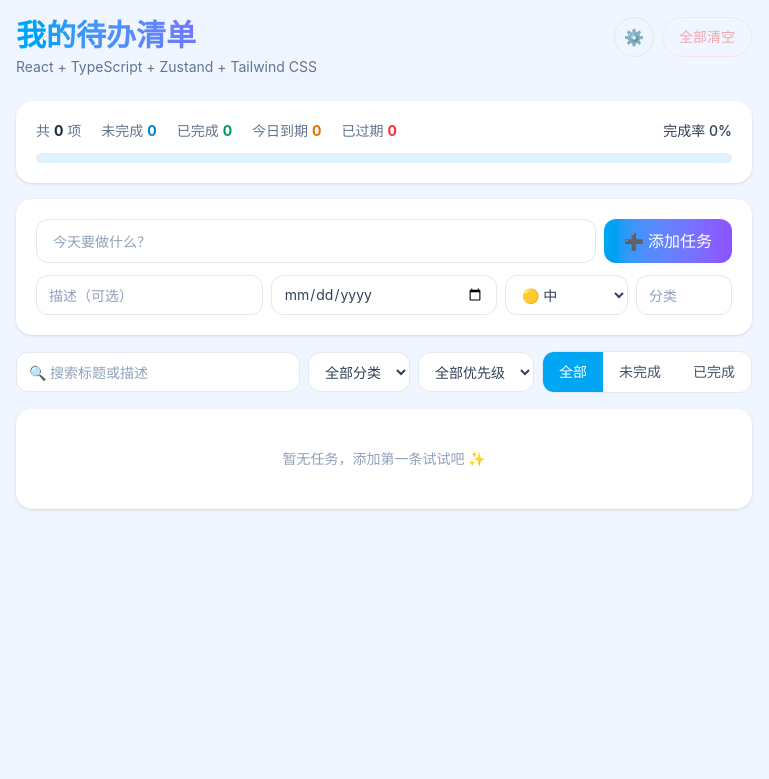
Test: App 主流程（规格 1/6） › 页头提供 Obsidian 设置按钮，点击打开设置面板
This screenshot has width=769, height=779.
Click the button named "Obsidian 同步设置" at (634, 37), box [614,17,654,57]
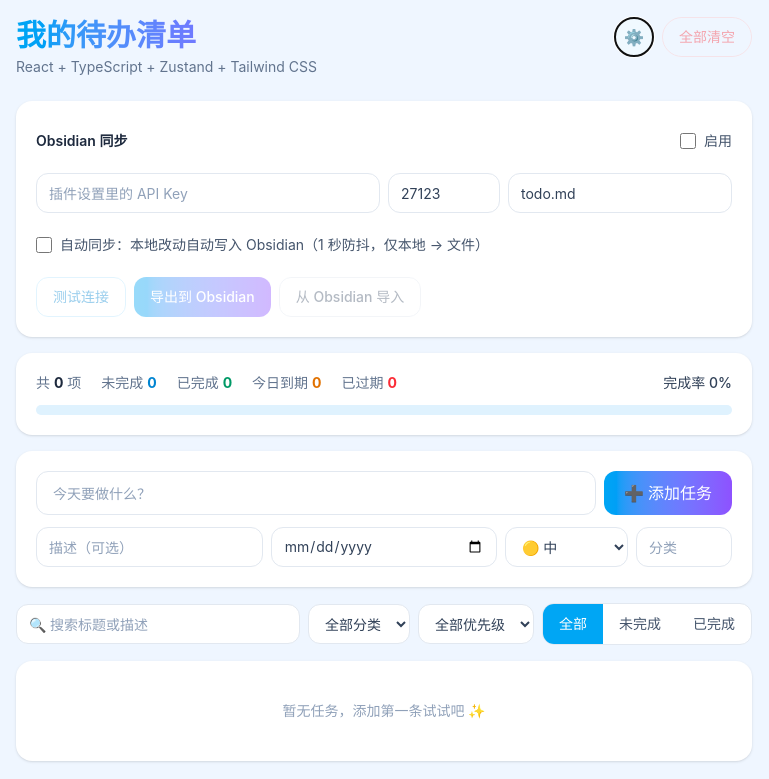
expect the heading "Obsidian 同步" is shown: met, box [36,131,127,151]
